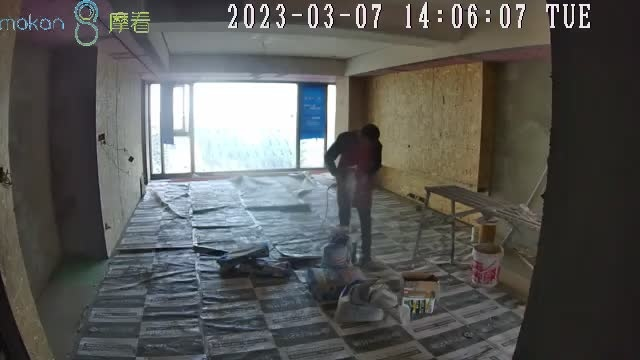people: (324, 125, 382, 268)
window: (148, 80, 342, 173)
